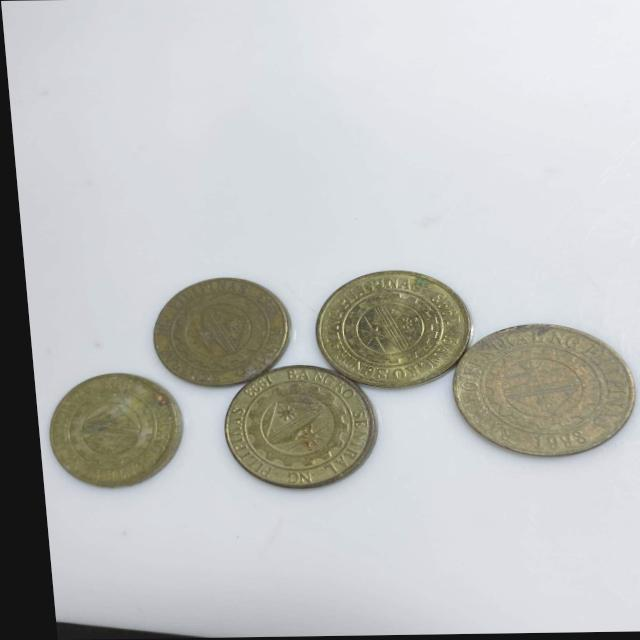25Cent_Old_Back: (443, 327, 631, 460), (200, 367, 380, 487), (313, 270, 459, 384), (30, 375, 180, 480), (146, 279, 281, 382)
